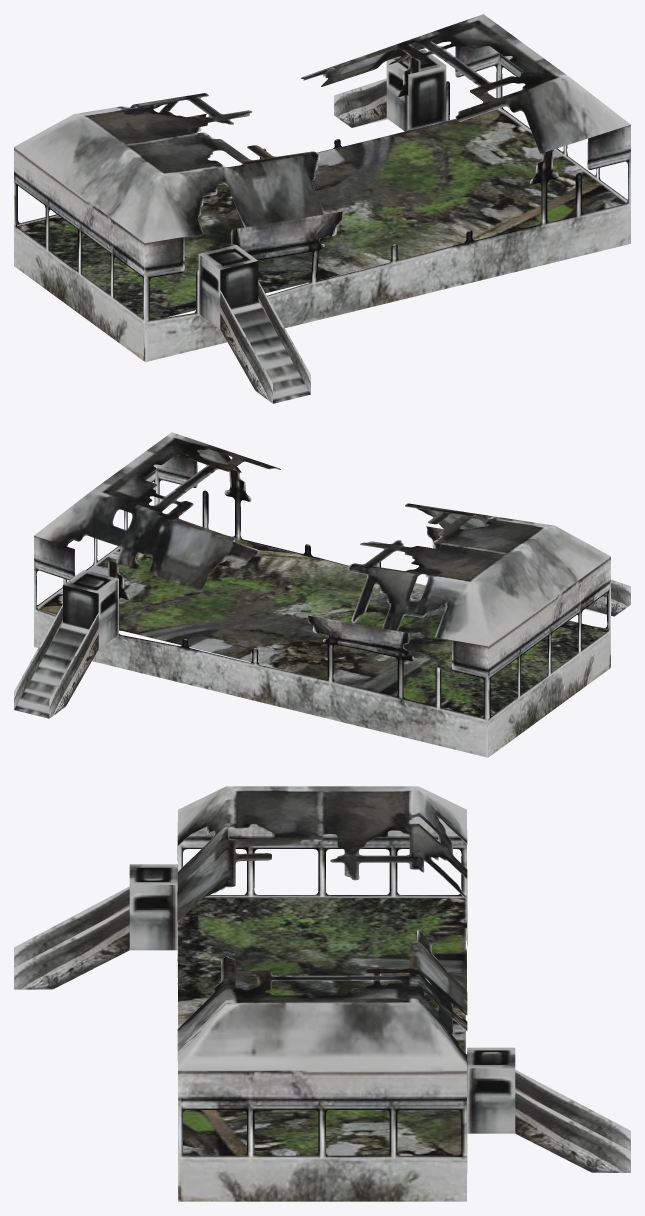
The model's file is terminal2_dam_hdtex.glb.
3 renders of one model, top to bottom at view 1: azimuth 30°, elevation 25°; view 2: azimuth 150°, elevation 25°; view 3: azimuth 270°, elevation 25°, orthographic. The views are drawn at different scales.
Visible parts, largest first — view 1: outside, Stairs; view 2: outside, Stairs; view 3: outside, Stairs.
Part boxes in pixels (box(x1,y1,x2,y2)): outside: box(14, 14, 630, 362); Stairs: box(198, 49, 446, 403); outside: box(34, 432, 610, 757); Stairs: box(14, 570, 630, 718); outside: box(177, 786, 467, 1201); Stairs: box(14, 864, 630, 1172).
Size of the model in its own units: 25.6 by 8 by 25.6.
1 material, 1 textured.
